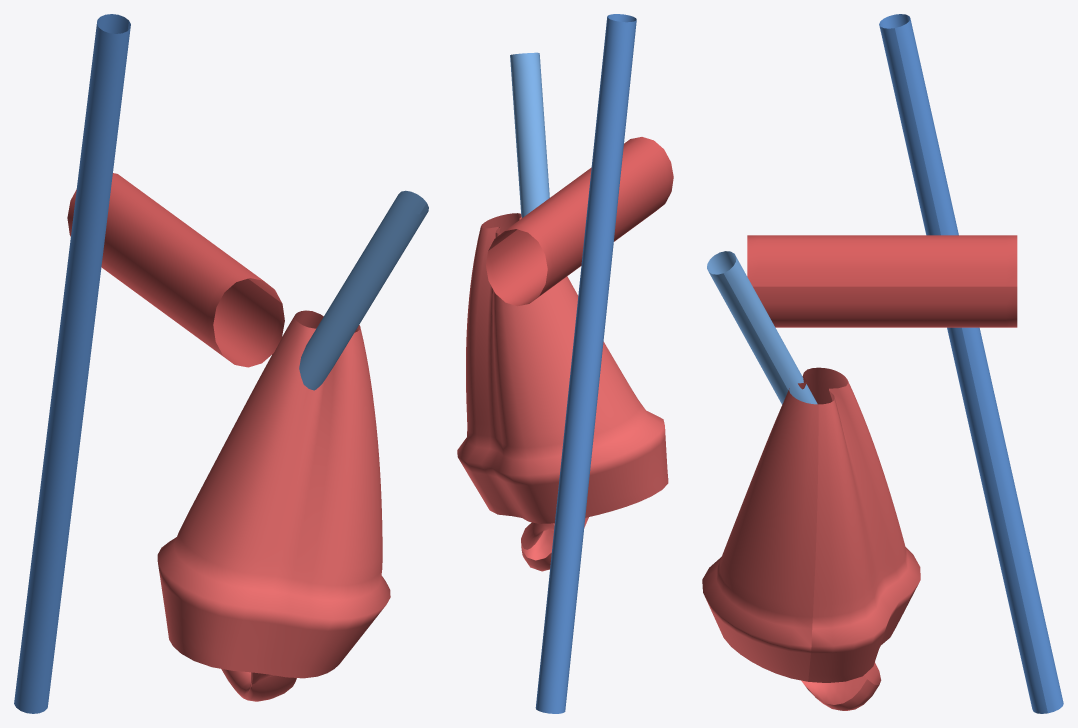
File: cardiovascular.glb
3 renders of one model, left to right at view 1: azimuth 30°, elevation 25°; view 2: azimuth 150°, elevation 25°; view 3: azimuth 270°, elevation 25°, orthographic. The views are drawn at different scales.
Parts seen in each view (by area): view 1: Mesh_Equine_Cor, Mesh_Equine_VenaCava, Mesh_Equine_Aorta, Mesh_Equine_TruncusPulmonalis; view 2: Mesh_Equine_Cor, Mesh_Equine_VenaCava, Mesh_Equine_Aorta, Mesh_Equine_TruncusPulmonalis; view 3: Mesh_Equine_Cor, Mesh_Equine_Aorta, Mesh_Equine_VenaCava, Mesh_Equine_TruncusPulmonalis.
Boxes of the visible parts, left/top/right/bottom form: Mesh_Equine_Cor: left=157, top=310, right=390, bottom=701; Mesh_Equine_VenaCava: left=14, top=14, right=130, bottom=713; Mesh_Equine_Aorta: left=67, top=173, right=284, bottom=367; Mesh_Equine_TruncusPulmonalis: left=299, top=190, right=428, bottom=390; Mesh_Equine_Cor: left=457, top=213, right=668, bottom=571; Mesh_Equine_VenaCava: left=535, top=14, right=636, bottom=713; Mesh_Equine_Aorta: left=486, top=137, right=673, bottom=306; Mesh_Equine_TruncusPulmonalis: left=510, top=52, right=549, bottom=217; Mesh_Equine_Cor: left=702, top=367, right=920, bottom=710; Mesh_Equine_Aorta: left=747, top=235, right=1017, bottom=327; Mesh_Equine_VenaCava: left=879, top=14, right=1063, bottom=713; Mesh_Equine_TruncusPulmonalis: left=707, top=251, right=817, bottom=404.
Bounding box in the file's own units: 0.3391 × 1.03 × 0.4874.
